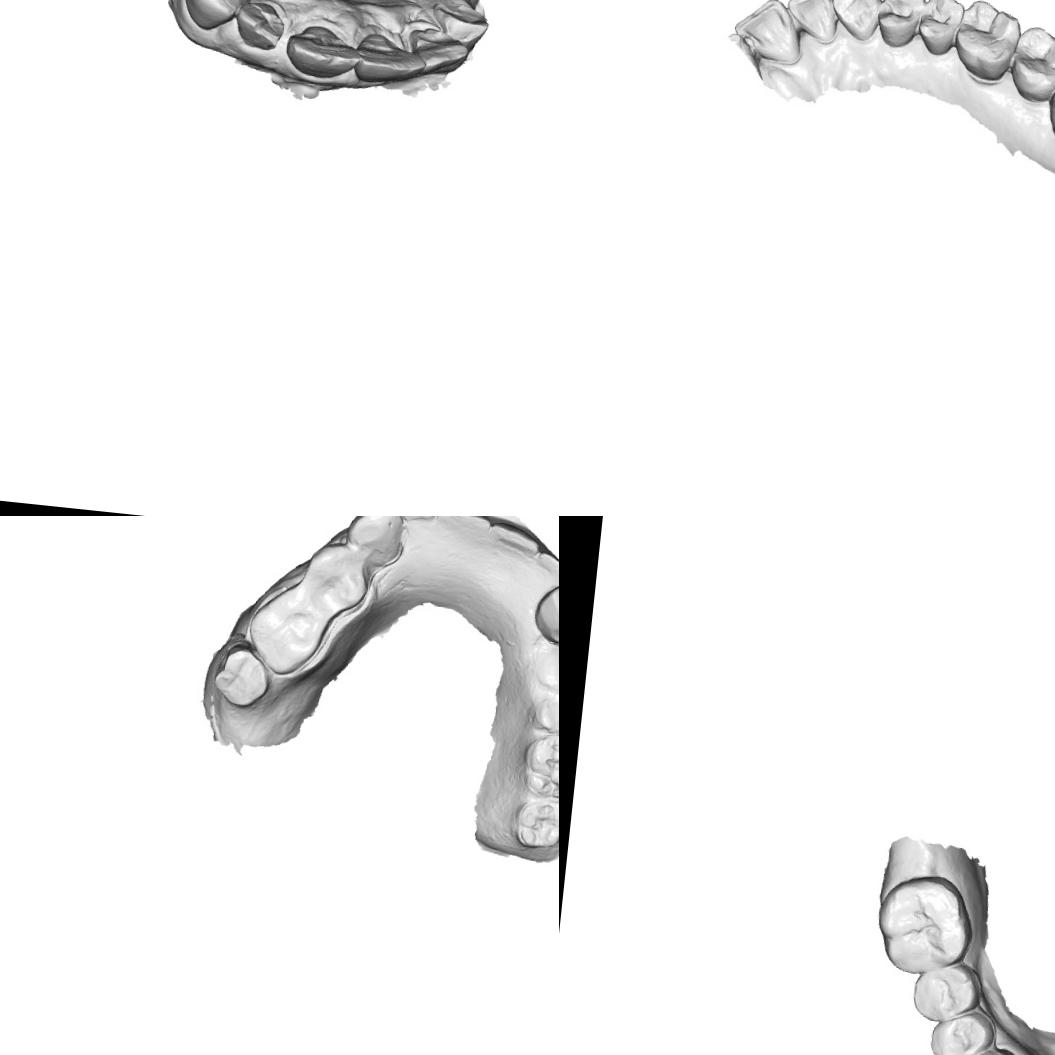canine: (345, 516, 407, 568), (430, 0, 496, 46), (178, 0, 259, 36), (826, 0, 884, 44), (530, 578, 559, 647)
incisor: (728, 0, 807, 69), (282, 20, 364, 86), (352, 29, 430, 91), (404, 26, 472, 81), (230, 0, 287, 59), (485, 516, 541, 575), (781, 0, 843, 49), (432, 516, 493, 562), (529, 541, 559, 597), (390, 516, 435, 543)
molar: (873, 874, 973, 978), (244, 585, 329, 681), (949, 0, 1025, 86), (208, 643, 272, 711), (1005, 22, 1055, 106), (517, 730, 559, 802), (511, 793, 559, 852)
premolar: (300, 538, 374, 616), (910, 960, 982, 1027), (926, 1004, 995, 1055), (914, 0, 967, 58), (872, 0, 927, 51), (530, 637, 559, 700), (529, 683, 559, 739)
